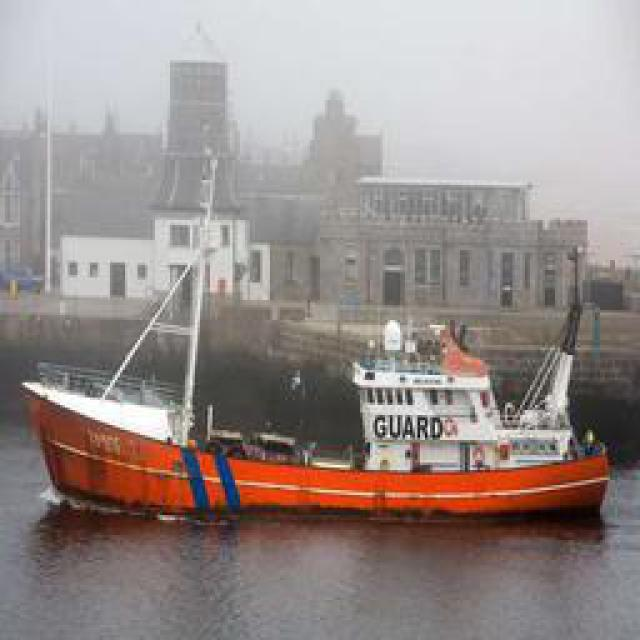Ship: (22, 302, 612, 522)
